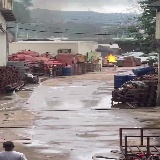fire: (105, 54, 117, 62)
